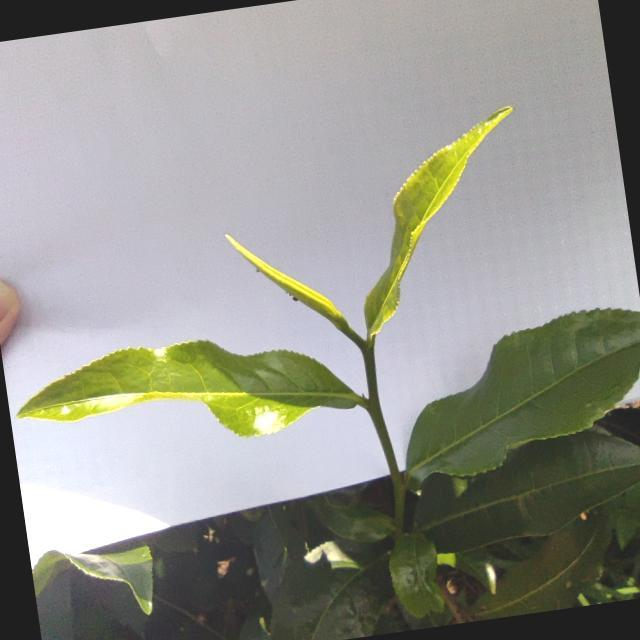Stem: (368, 400, 378, 412)
